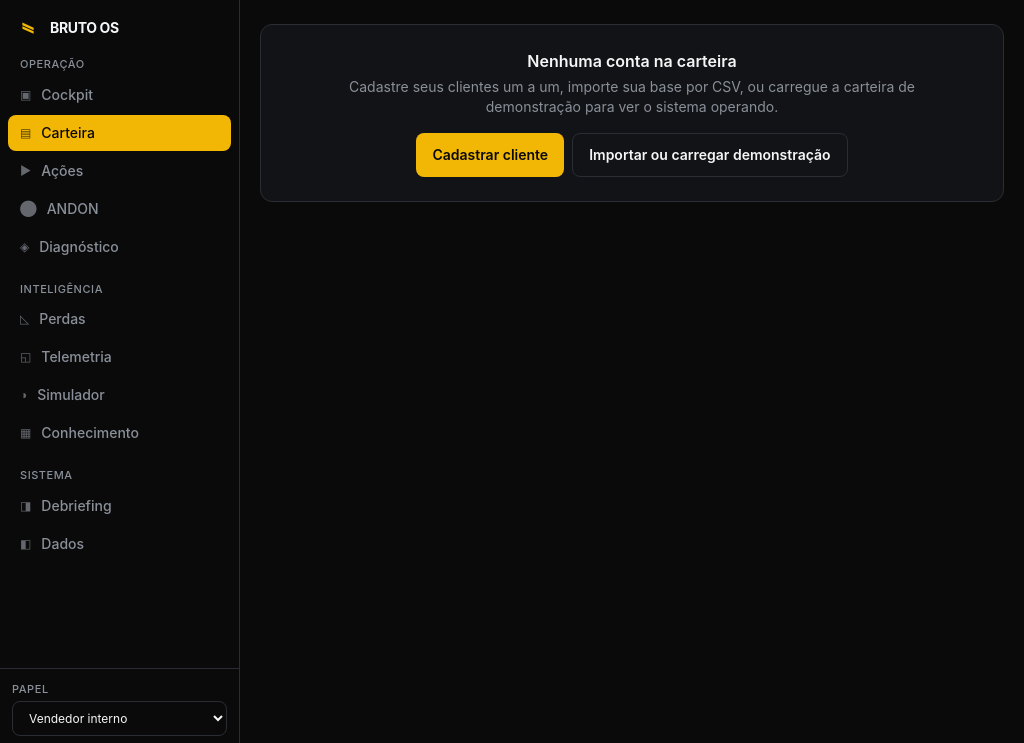
Test: registro de compra alimenta o motor › avisa quantas compras faltam para haver cadência, em vez de inventar previsão
Check: the text "Nenhuma conta na carteira" is shown, box [527, 51, 737, 71]
Click the button "Cadastrar cliente" at (490, 155), box [416, 133, 564, 177]
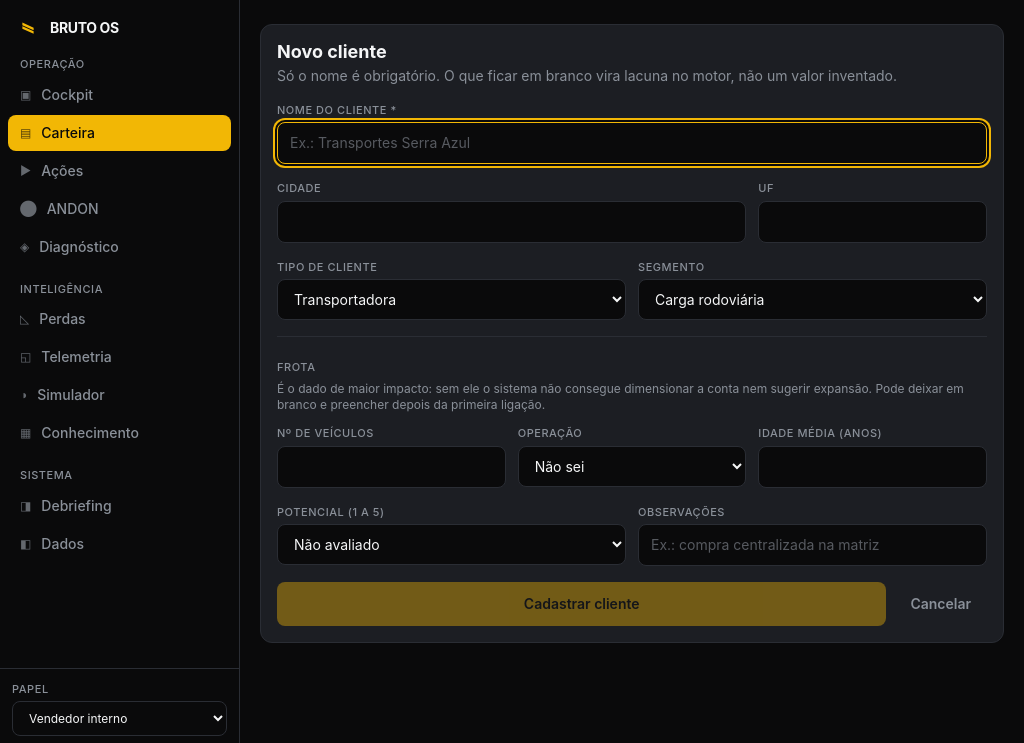
Check: the heading "Novo cliente" is shown, box [277, 41, 387, 62]
Type "Frota Beta" into the field labelled "Nome do cliente *" at (632, 143), box [277, 122, 987, 164]
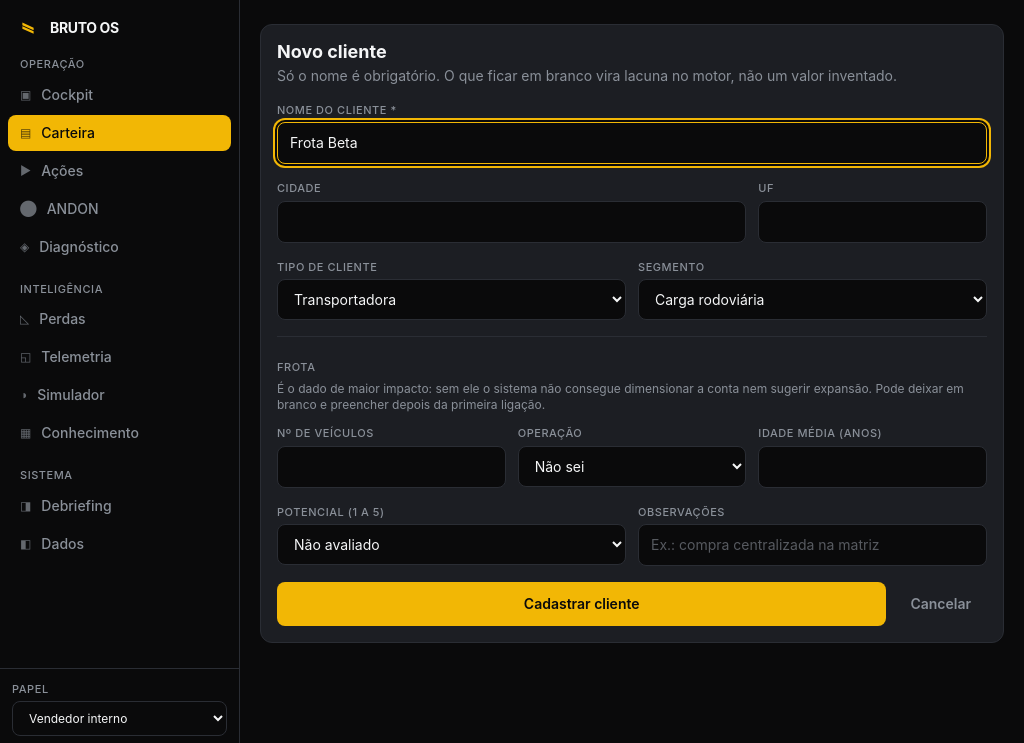
Type "20" into the number field labelled "Nº de veículos" at (391, 466), box [277, 446, 506, 488]
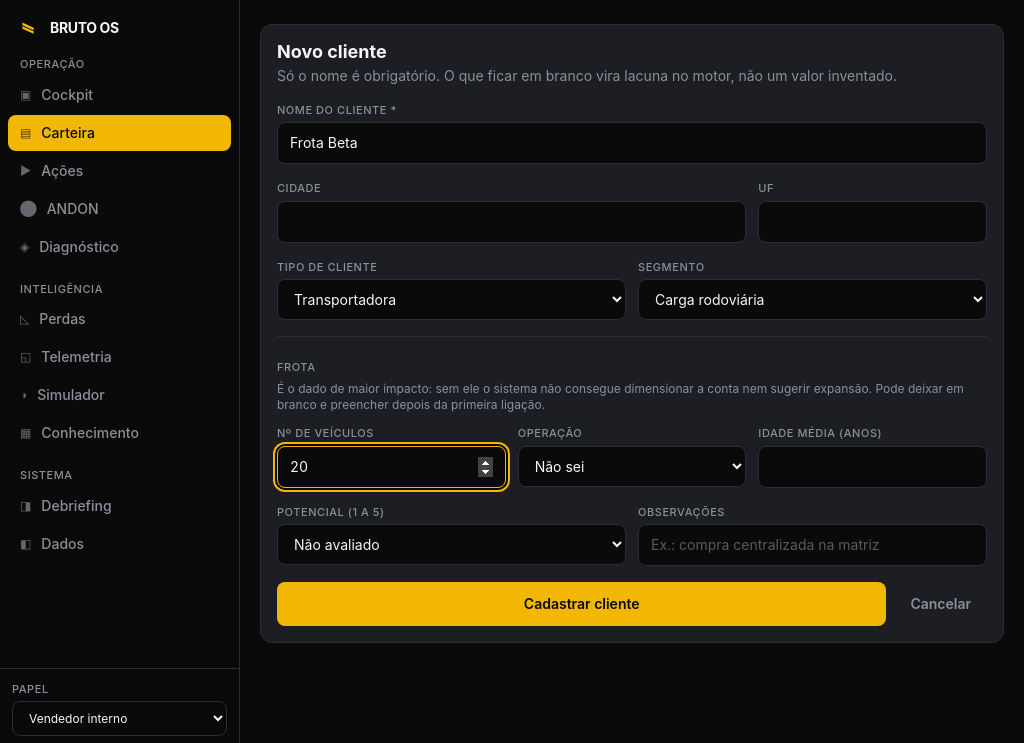
Click the button "Cadastrar cliente" at (582, 604), box [277, 582, 886, 626]
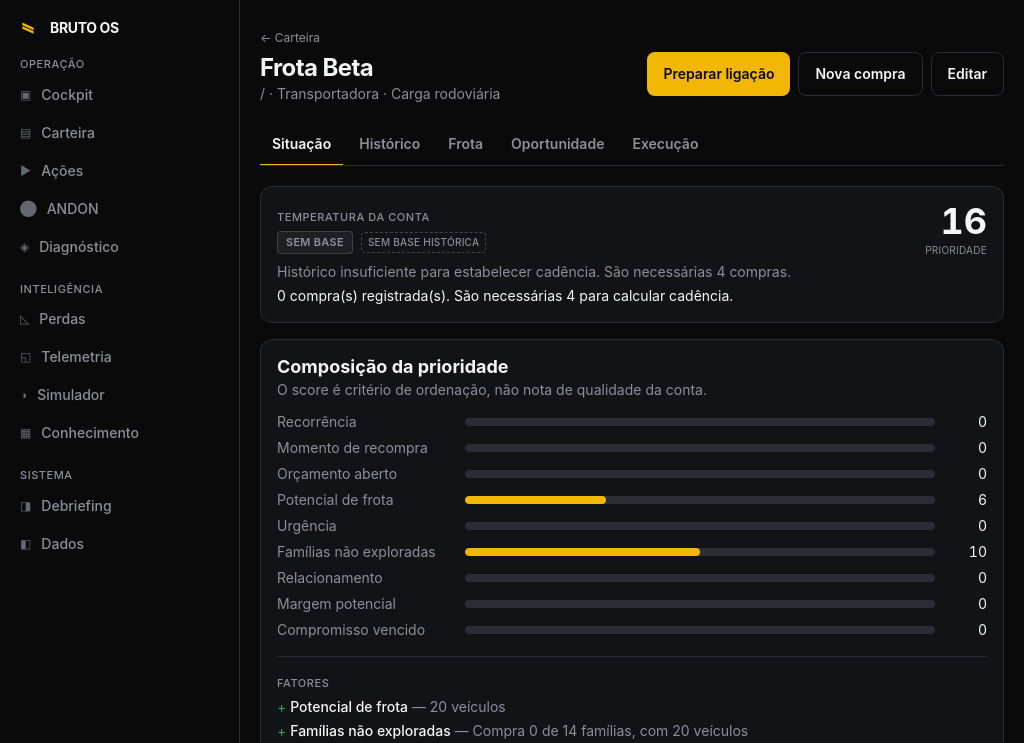
Check: the heading "Frota Beta" is shown, box [260, 53, 373, 82]
Click the button "Nova compra" at (861, 74), box [798, 52, 923, 96]
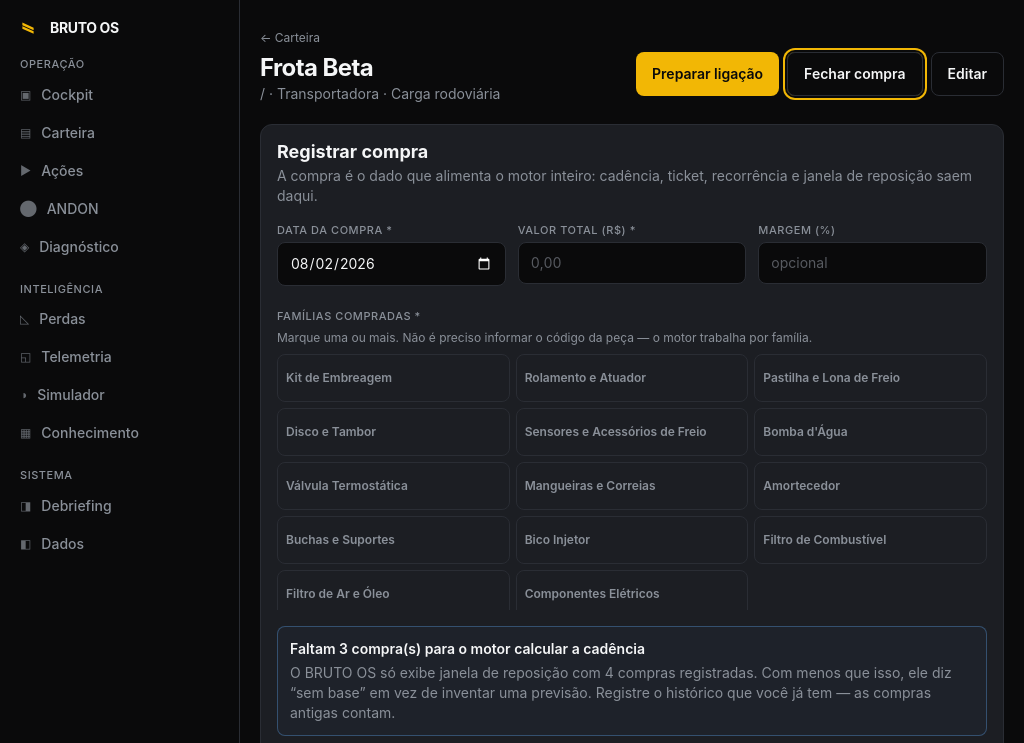
Check: the text "Faltam 3 compra(s) para o motor calcular a cadência" is shown, box [290, 640, 645, 657]
